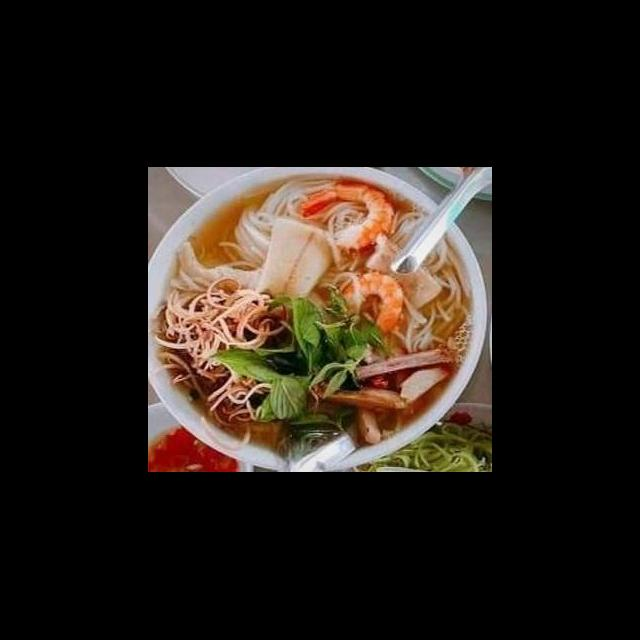bun: (228, 170, 383, 280), (389, 195, 478, 358)
ca: (250, 212, 343, 306), (360, 228, 446, 314)
thit heo quay: (351, 342, 459, 384), (394, 359, 457, 408)
tom: (296, 172, 398, 262), (335, 268, 407, 354)
